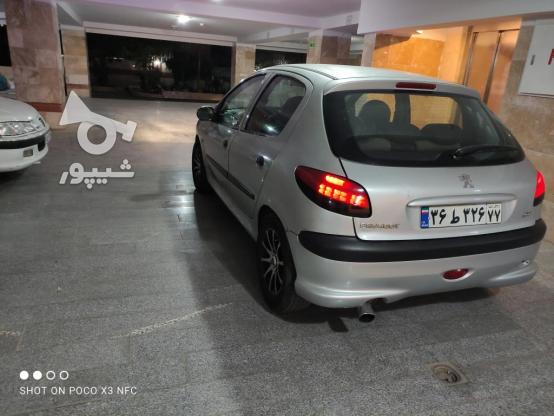car: (416, 200, 504, 230)
